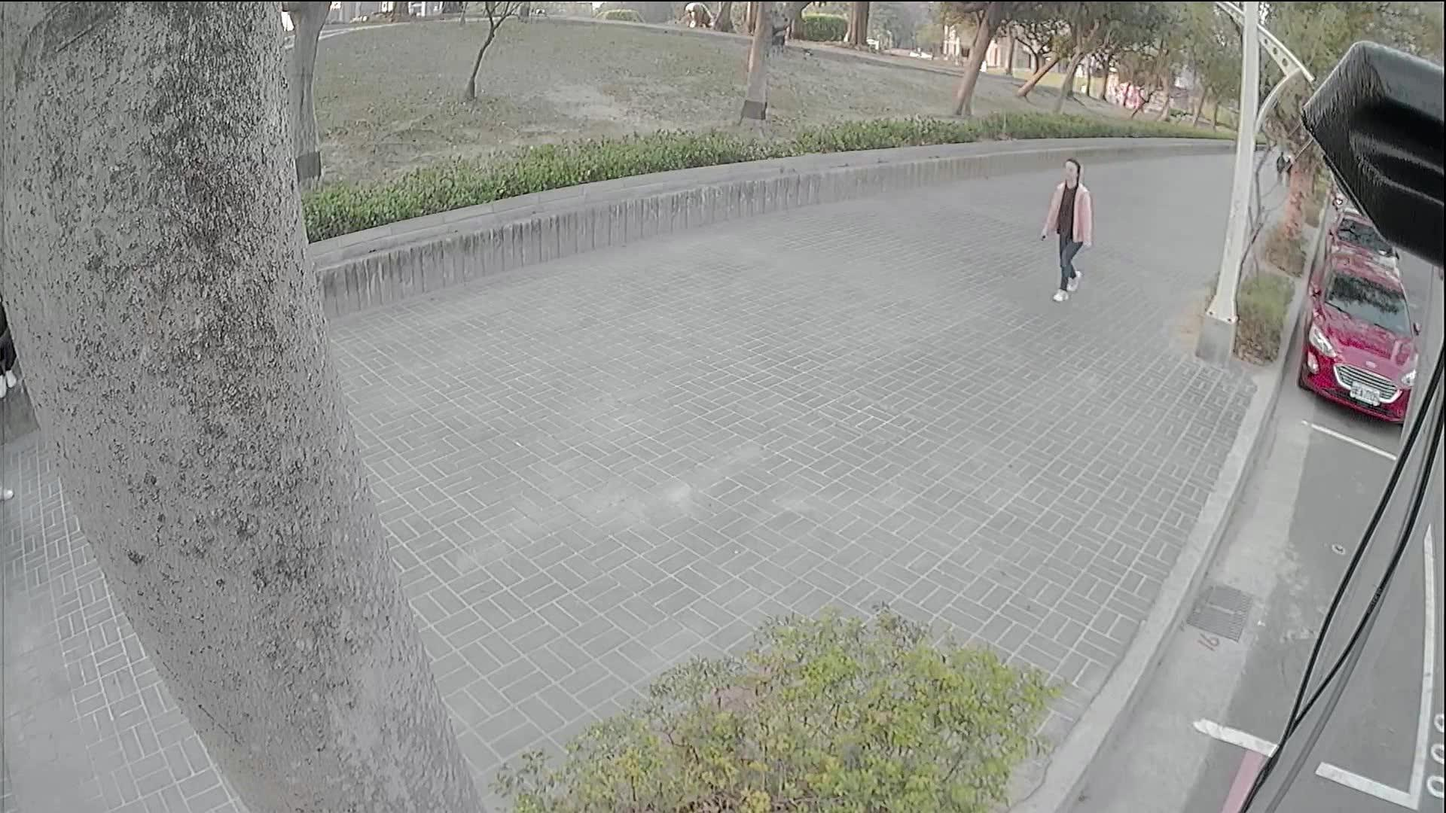person: (1042, 156, 1089, 302)
